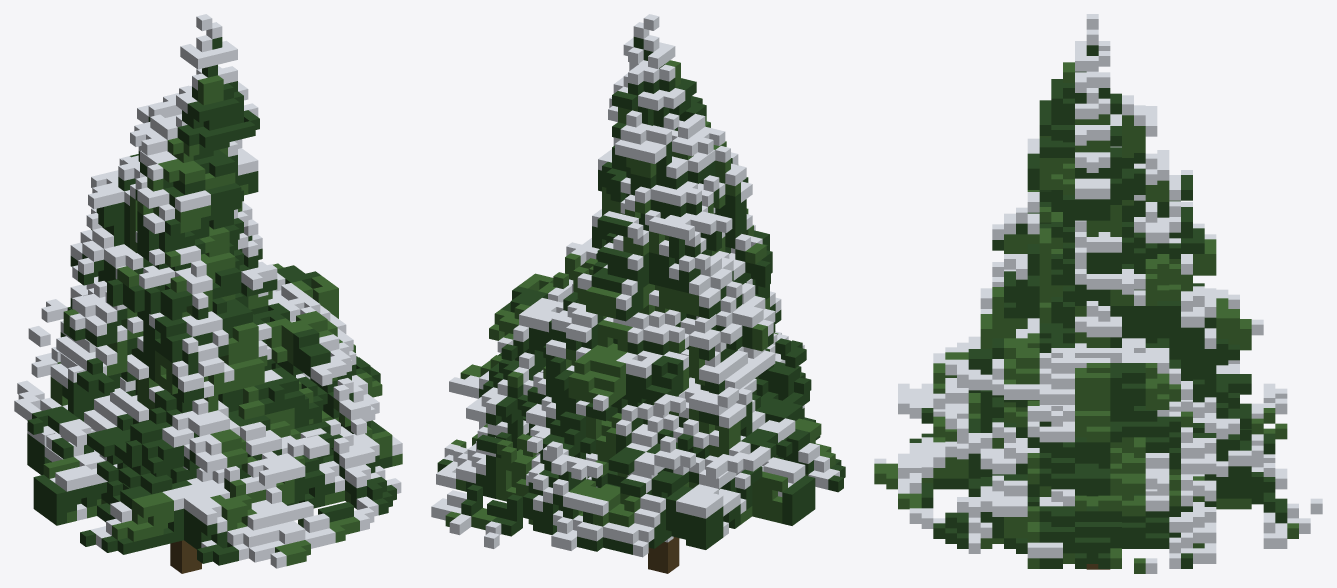
File: tree_alpine_0.obj
The picture shows the model from 3 angles, left to right: view 1: azimuth 30°, elevation 25°; view 2: azimuth 150°, elevation 25°; view 3: azimuth 270°, elevation 25°; orthographic projection. The views are drawn at different scales.
Bounding box in the file's own units: 2.47 × 3.9 × 2.85.
Materials: 1 (1 with a texture image).
